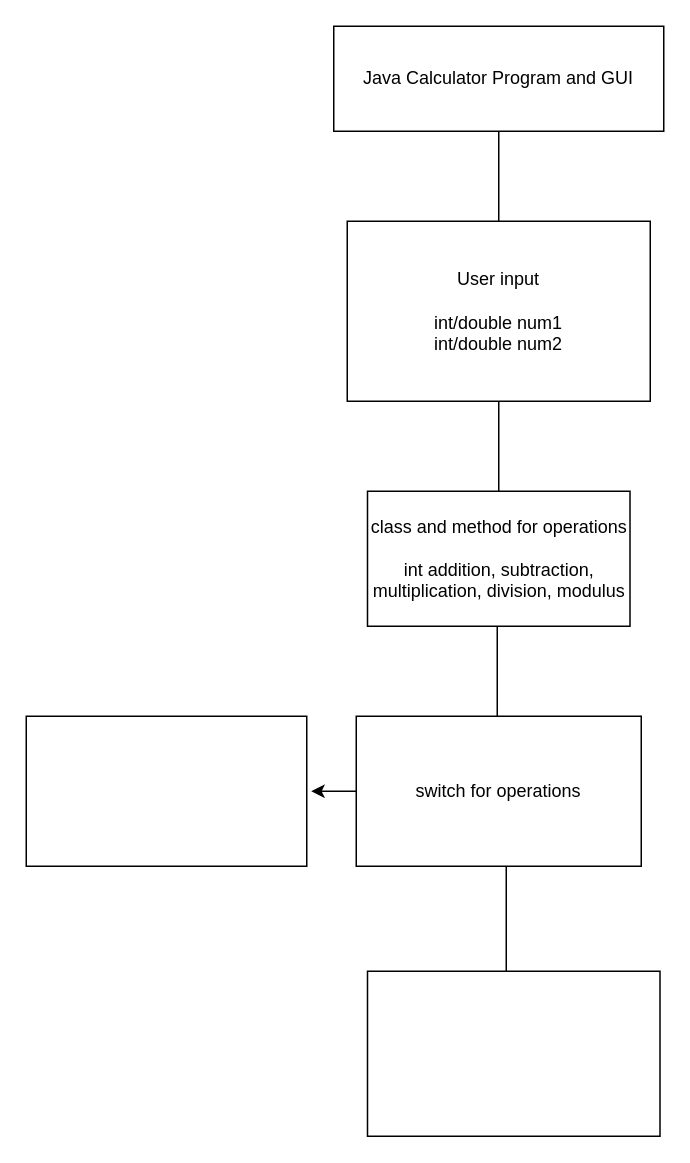
Image size: 690x1163. Some labels were removed from this diagram. Here are the shapes that lost their labels. From the top down, the centre of each, then its label:
At (166,790): "for division if else statement when num2 != 0".
At (513,1053): "when anser is given should given a choice to solve again or exit program".
